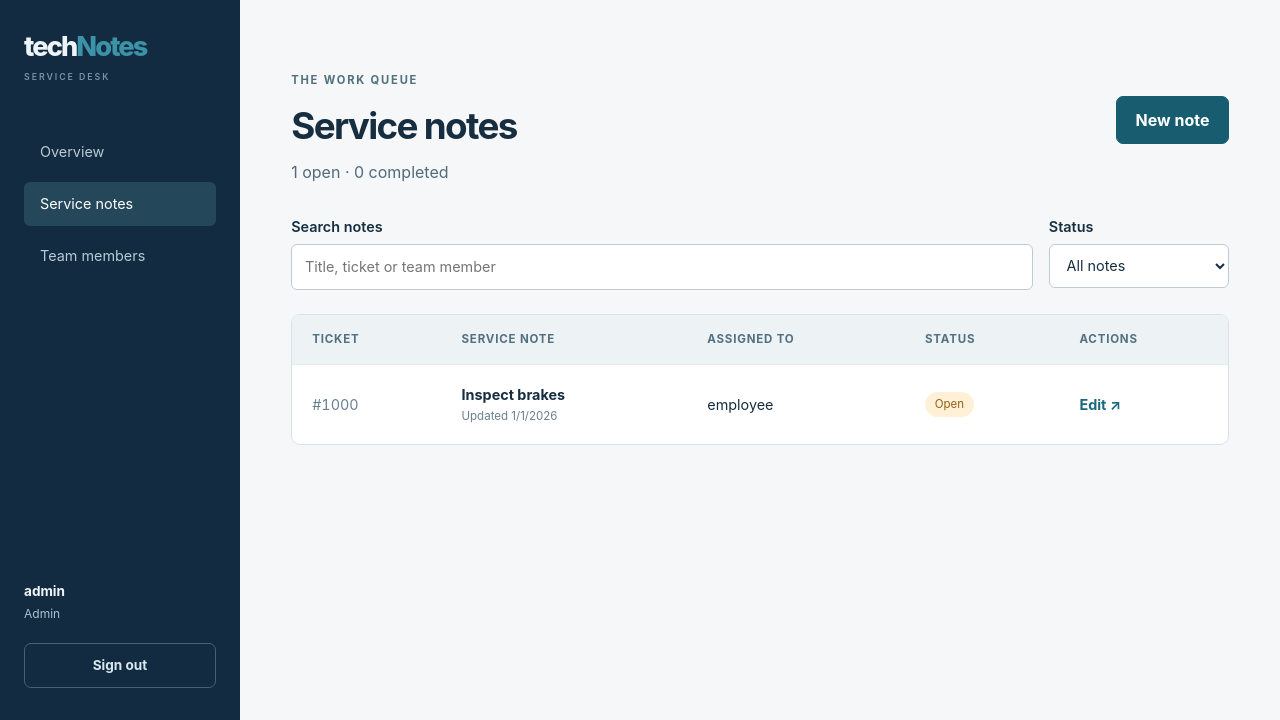
Test: notes filter by status and search, with a useful empty state
The width and height of the screenshot is (1280, 720).
Expected: the text "Inspect brakes" is shown, [462, 386, 565, 402]
Select "Completed" in the dropdown labelled "Status": coordinates (1139, 266) [1049, 244, 1229, 288]
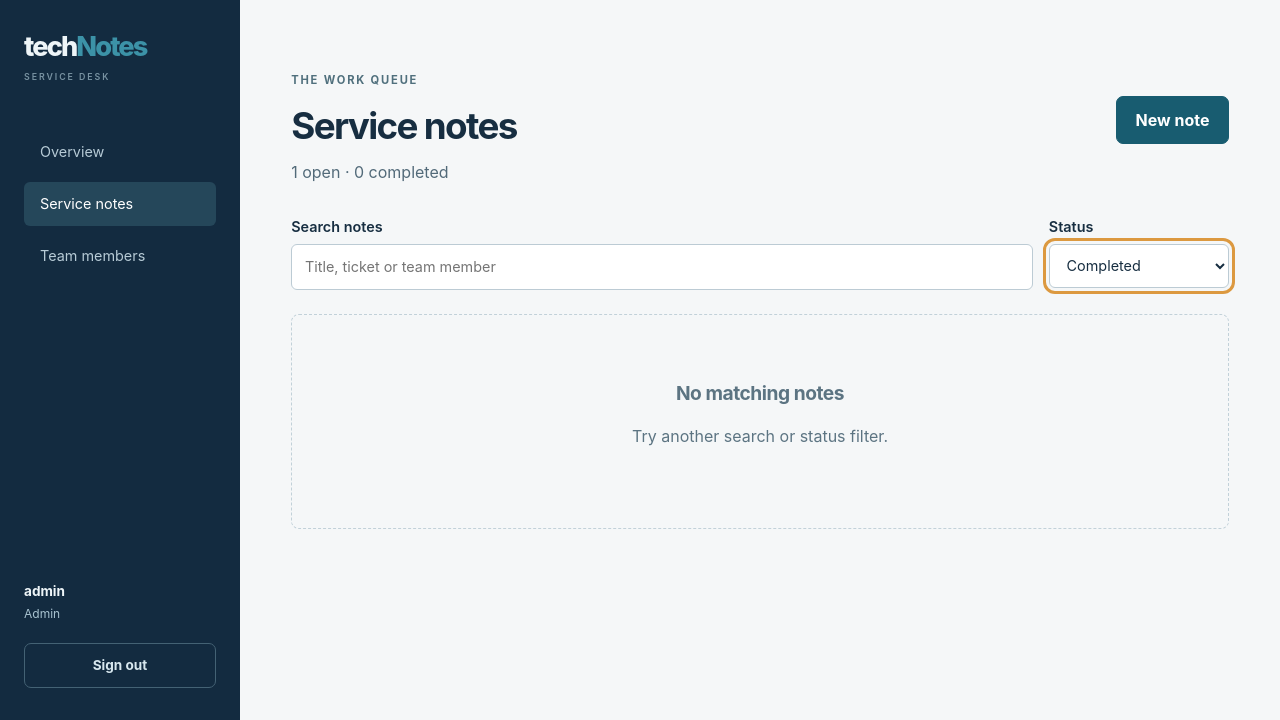
Result: the heading "No matching notes" is shown at [676, 381, 844, 405]
Select "All notes" in the dropdown labelled "Status": coordinates (1139, 266) [1049, 244, 1229, 288]
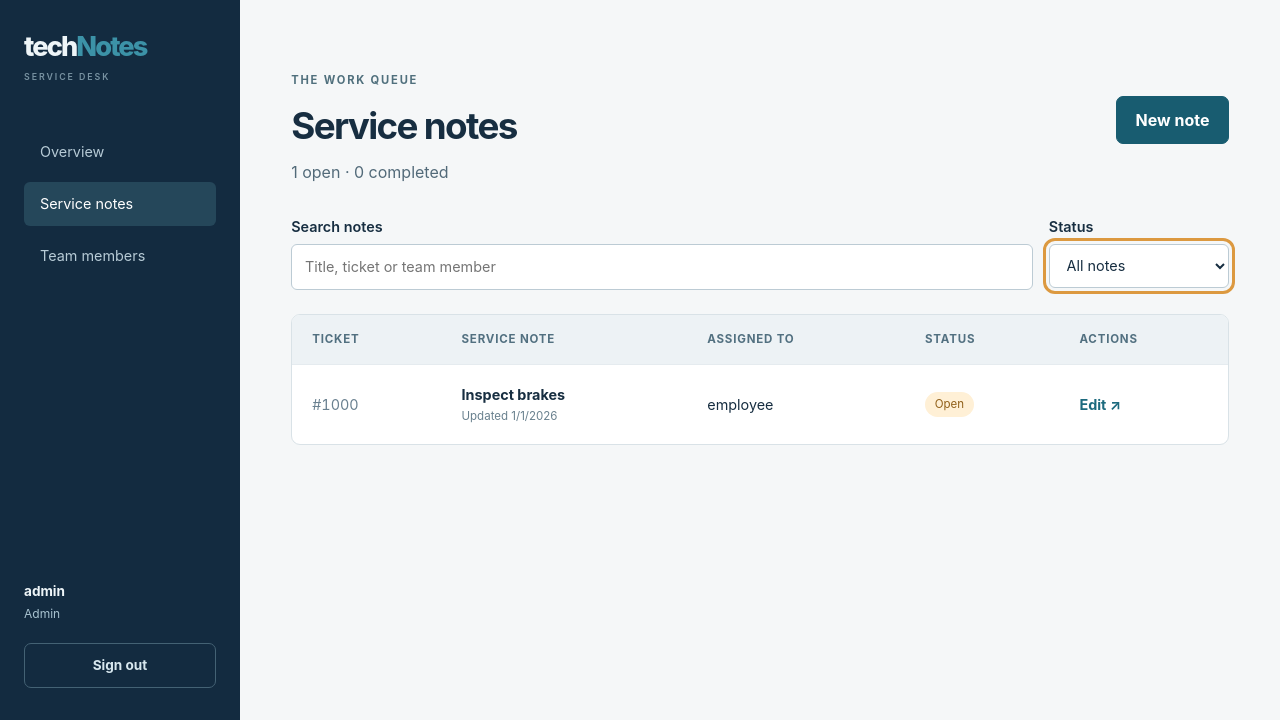
In the search field labelled "Search notes": coordinates (662, 267) [291, 244, 1033, 290], type "unknown"
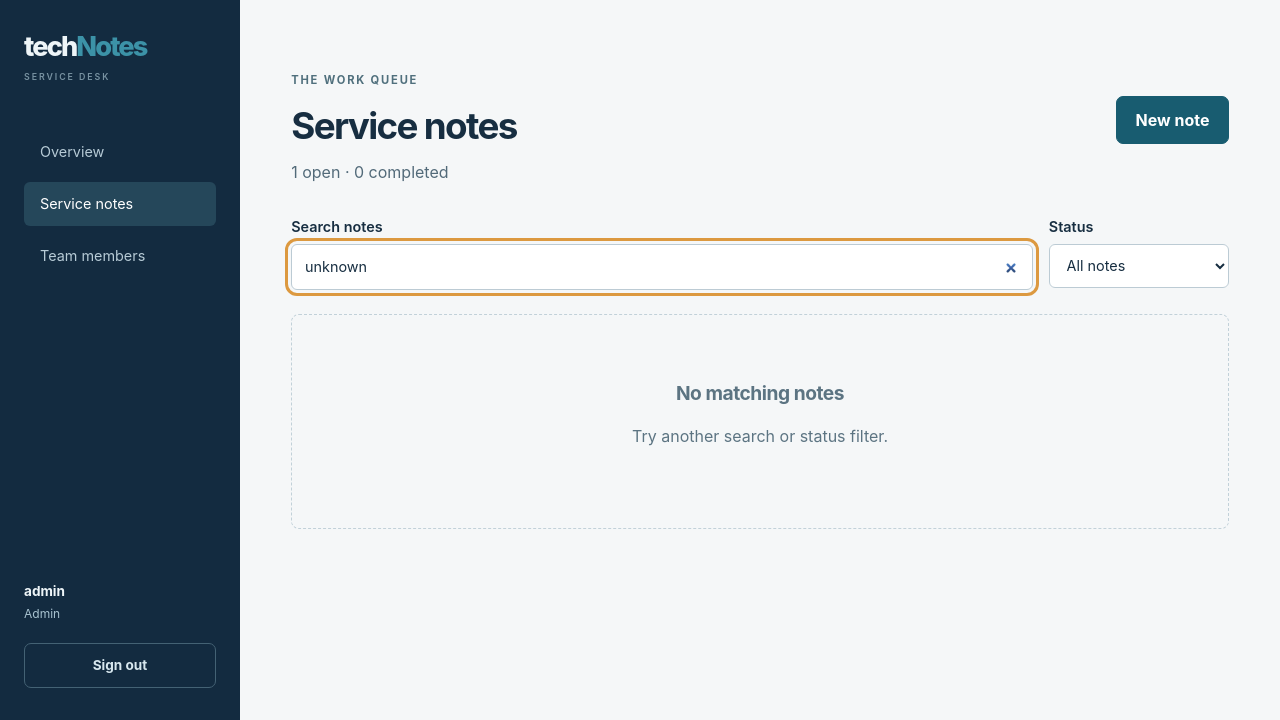
Result: the heading "No matching notes" is shown at [676, 381, 844, 405]
